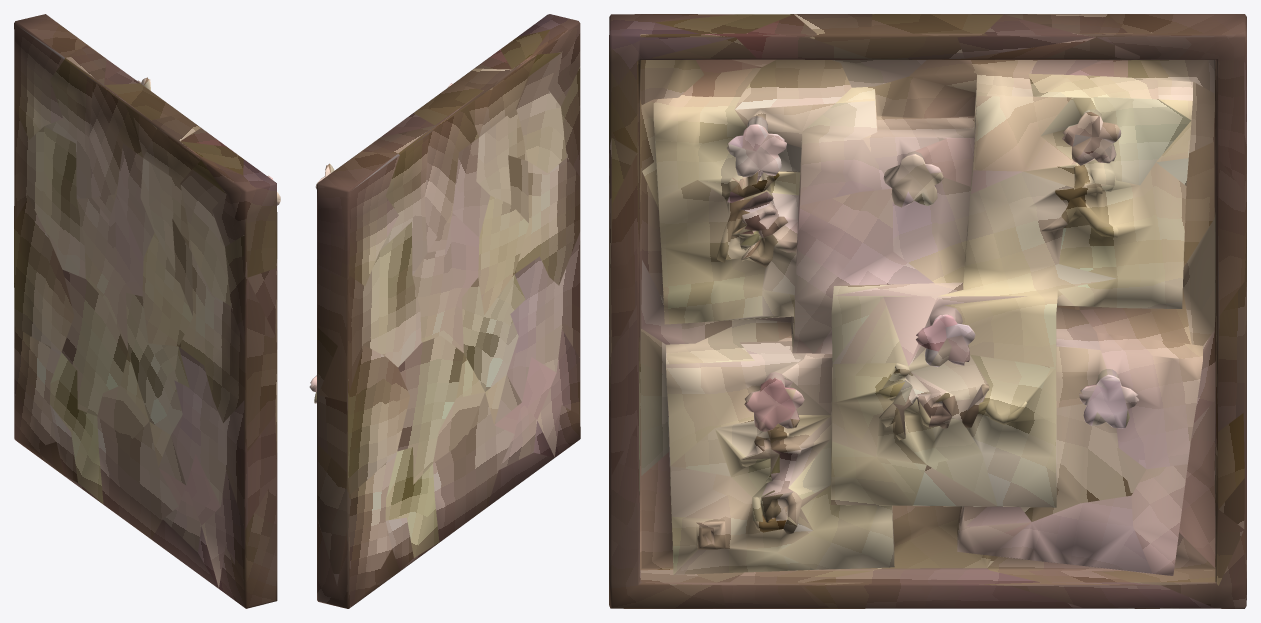
File: JP_사물_s2_office_memo.glb
The picture shows the model from 3 angles, left to right: view 1: azimuth 30°, elevation 25°; view 2: azimuth 150°, elevation 25°; view 3: azimuth 270°, elevation 25°; orthographic projection. The views are drawn at different scales.
Visible parts, largest first — view 1: tripo_node_ccaf1ebe-498b-45cf-87c4-cb0ad41b71d0; view 2: tripo_node_ccaf1ebe-498b-45cf-87c4-cb0ad41b71d0; view 3: tripo_node_ccaf1ebe-498b-45cf-87c4-cb0ad41b71d0.
Part boxes in pixels (bbox=[...]): tripo_node_ccaf1ebe-498b-45cf-87c4-cb0ad41b71d0: bbox=[14, 14, 280, 608]; tripo_node_ccaf1ebe-498b-45cf-87c4-cb0ad41b71d0: bbox=[309, 14, 580, 608]; tripo_node_ccaf1ebe-498b-45cf-87c4-cb0ad41b71d0: bbox=[609, 14, 1246, 608].
Bounding box in the file's own units: 0.2508 × 0.9948 × 0.9999.
1 material, 1 textured.
